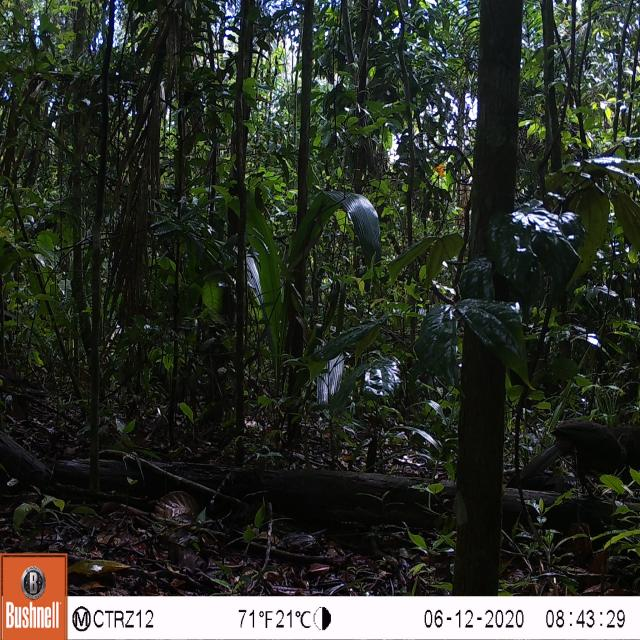Spixs Guan: (536, 407, 640, 501)
